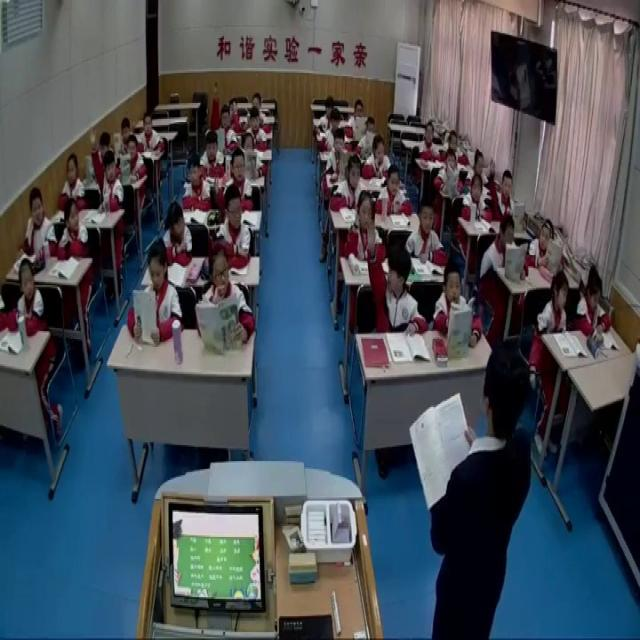distracted: (527, 220, 560, 271)
focused: (128, 238, 186, 350), (199, 244, 255, 354), (432, 262, 486, 350), (574, 267, 612, 339), (407, 202, 448, 268), (14, 259, 46, 339), (219, 187, 251, 263), (22, 191, 55, 260), (56, 200, 92, 263), (486, 212, 520, 277), (374, 163, 411, 220), (331, 153, 367, 211), (162, 204, 195, 267), (538, 273, 571, 336), (182, 153, 212, 216), (365, 130, 395, 182), (463, 173, 494, 223), (199, 128, 226, 180), (238, 133, 266, 183), (356, 111, 383, 161), (436, 151, 466, 196), (120, 133, 146, 184), (60, 156, 84, 208), (415, 121, 442, 166), (444, 128, 472, 170), (139, 109, 164, 155), (323, 105, 346, 154), (469, 147, 492, 195), (327, 130, 352, 172), (245, 106, 268, 146), (115, 117, 135, 155)
raising_hand: (366, 221, 430, 337), (341, 190, 389, 261), (88, 123, 126, 211), (209, 79, 241, 154), (226, 95, 243, 135)
